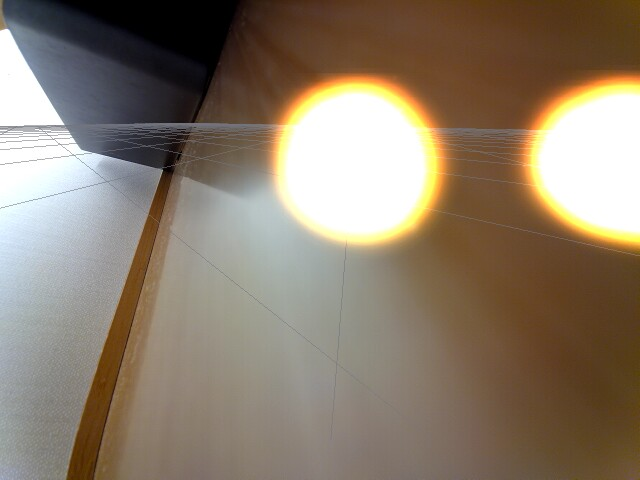fire: (262, 60, 451, 259), (519, 69, 640, 254)
